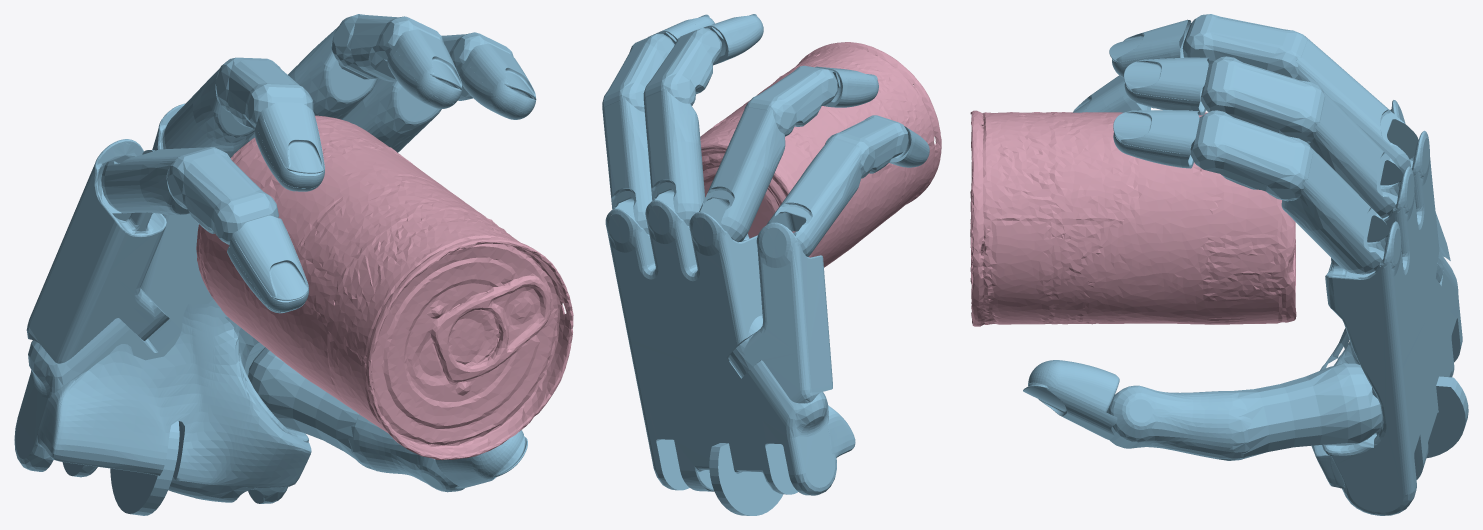
3 renders of one model, left to right at view 1: azimuth 30°, elevation 25°; view 2: azimuth 150°, elevation 25°; view 3: azimuth 270°, elevation 25°, orthographic. The views are drawn at different scales.
Parts seen in each view (by area): view 1: world, tomato_soup_can.stl; view 2: world, tomato_soup_can.stl; view 3: world, tomato_soup_can.stl.
Part boxes in pixels (box(x1,y1,x2,y2)): world: box(14, 14, 536, 515); tomato_soup_can.stl: box(196, 115, 573, 460); world: box(602, 14, 929, 515); tomato_soup_can.stl: box(700, 42, 941, 267); world: box(1023, 14, 1468, 515); tomato_soup_can.stl: box(970, 110, 1296, 326).
Size of the model in its own units: 0.1239 by 0.1658 by 0.1557.
